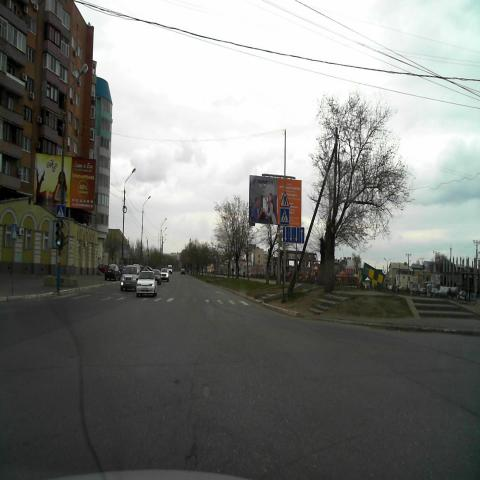1_20_2: (278, 190, 290, 207)
5_15_7: (283, 226, 305, 244)
